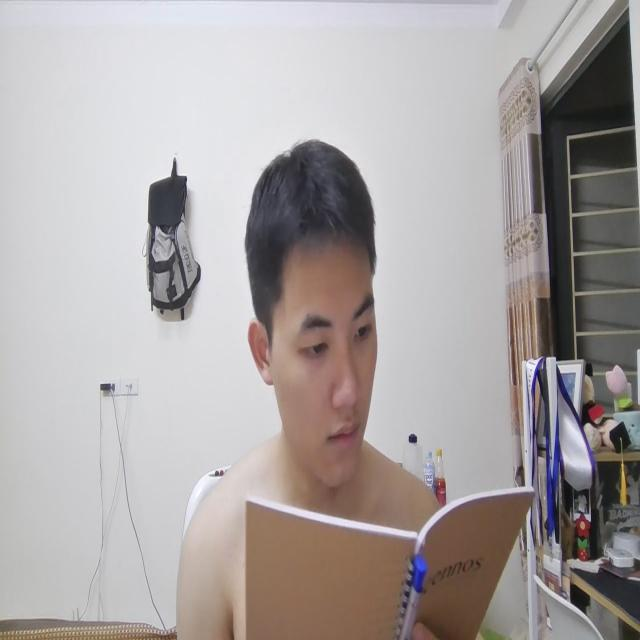book: (238, 487, 533, 637)
student: (238, 127, 392, 494)
